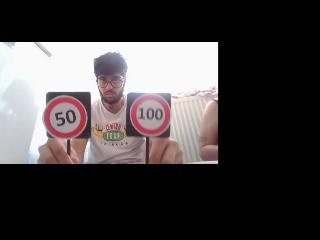Speedlimit_100: (128, 94, 172, 138)
Speedlimit_50: (46, 94, 90, 138)
